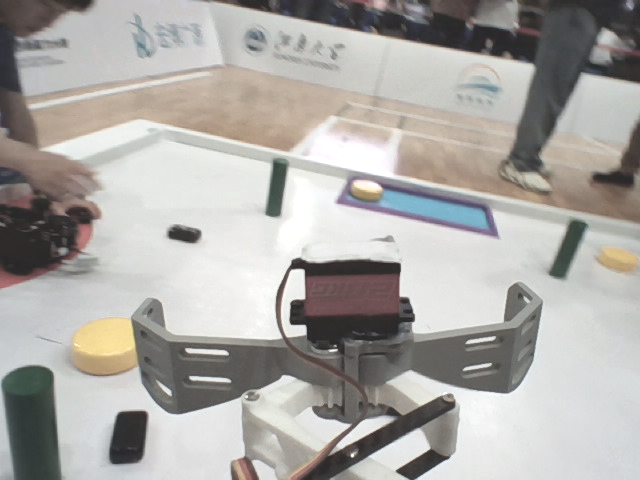black: (159, 220, 210, 252)
kuang: (323, 170, 505, 247)
yellow: (70, 300, 142, 384), (593, 243, 640, 281), (345, 180, 388, 204)
zhuzi: (1, 363, 57, 480), (546, 211, 587, 284), (264, 152, 286, 219)
